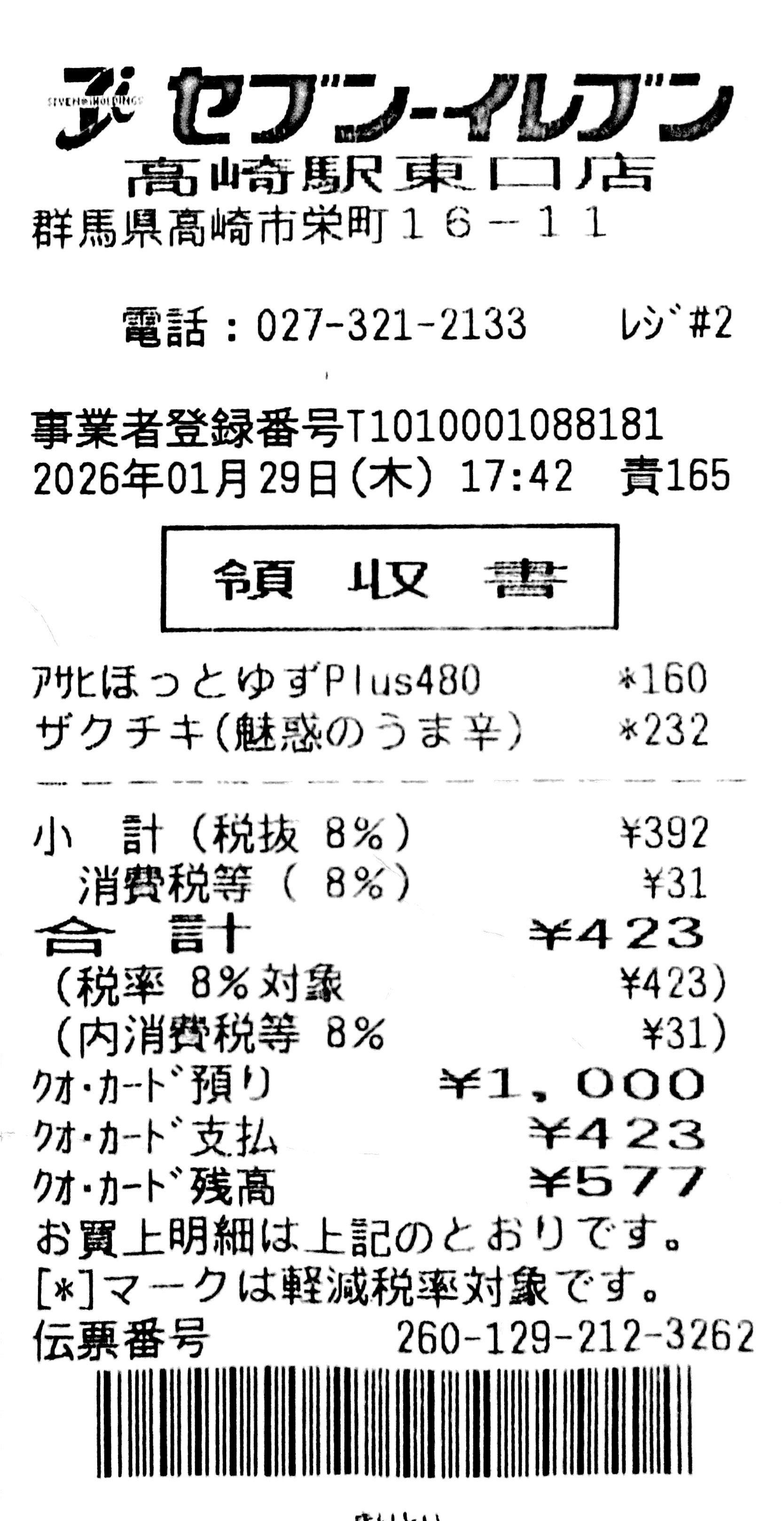Date: (32, 459, 337, 498)
Pay: (34, 913, 704, 959)
Shopname: (166, 66, 735, 146)
Telnum: (256, 306, 529, 342)
